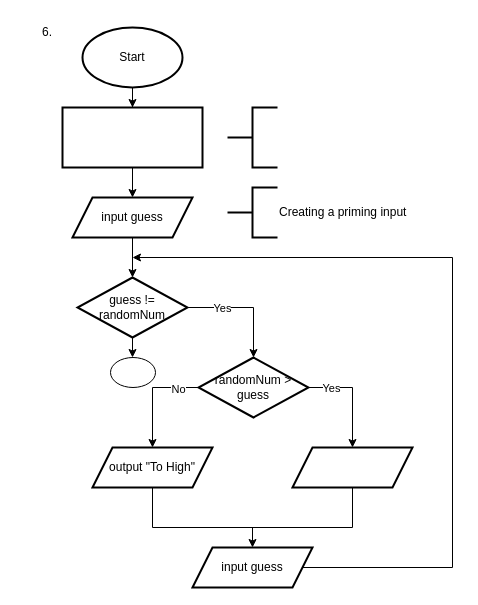
This 478x605 diagram has some shape labels left out. The centre of each missing label's shape, as x and y in pixels:
Declarations: (252,137)
Declarations num guess num randonNum: (132,137)
output "To Low": (352,467)
Stop: (133,372)
